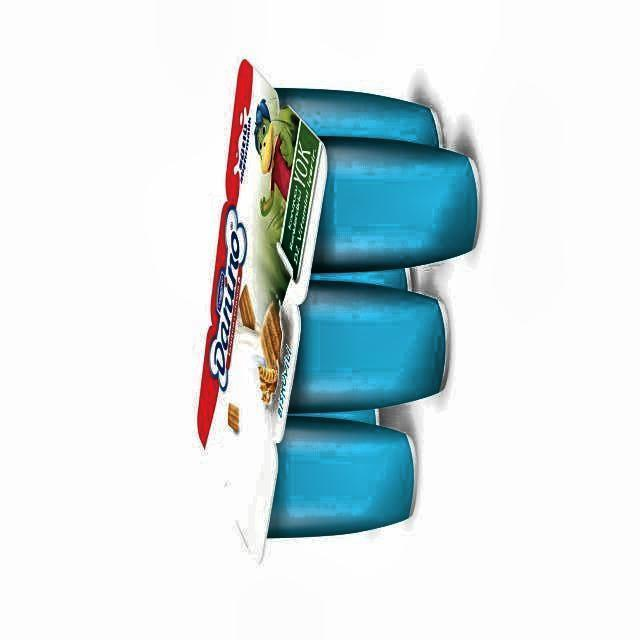plastic: (198, 61, 478, 556)
